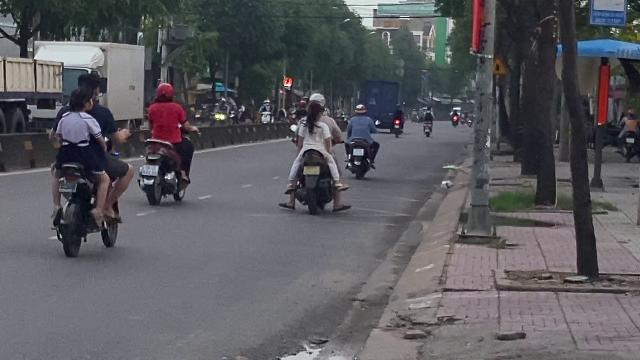helmet: (153, 82, 174, 102), (309, 93, 325, 106)
licenseplate: (142, 164, 158, 176), (304, 166, 320, 174)
motorcyclist: (44, 71, 130, 257), (282, 90, 348, 216), (138, 81, 195, 204)
nohelmet: (76, 72, 100, 100), (68, 88, 96, 112), (306, 100, 324, 120)
